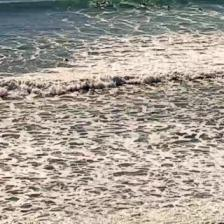surfer: (140, 2, 146, 7), (198, 8, 204, 12), (166, 6, 171, 10), (64, 58, 69, 62)
